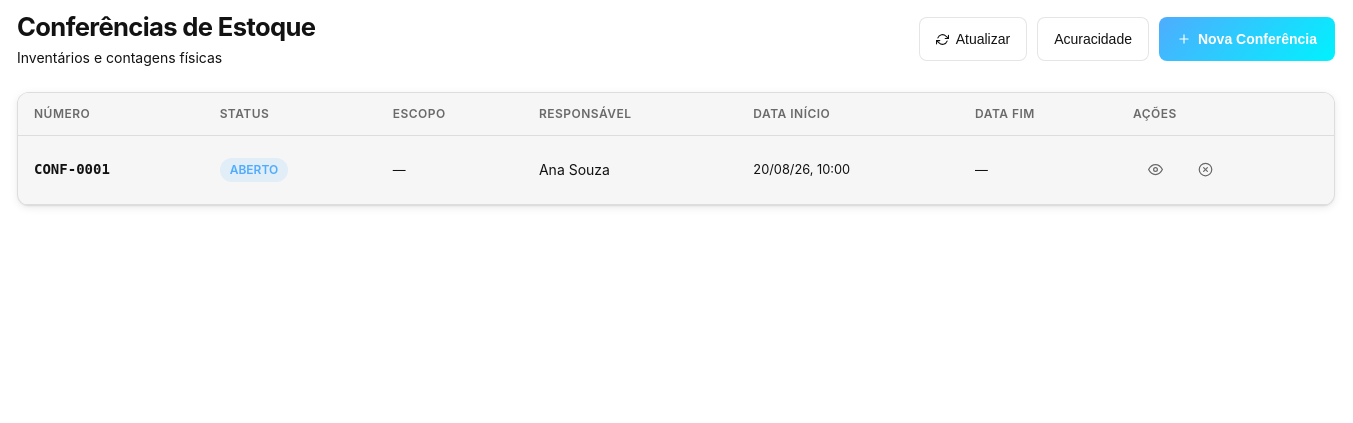
ConferenciaEstoque — badge "Recontagem necessária" vem do servidor › badge aparece quando recontagem_necessaria=true mesmo com divergência local zero, e some quando false mesmo com divergência local grande
This screenshot has width=1353, height=423.
What coordinates should you click on to do the following:
click the button named "Abrir"
I would click on:
 (1155, 170)
Its box is x1=1133 y1=148 x2=1177 y2=192.
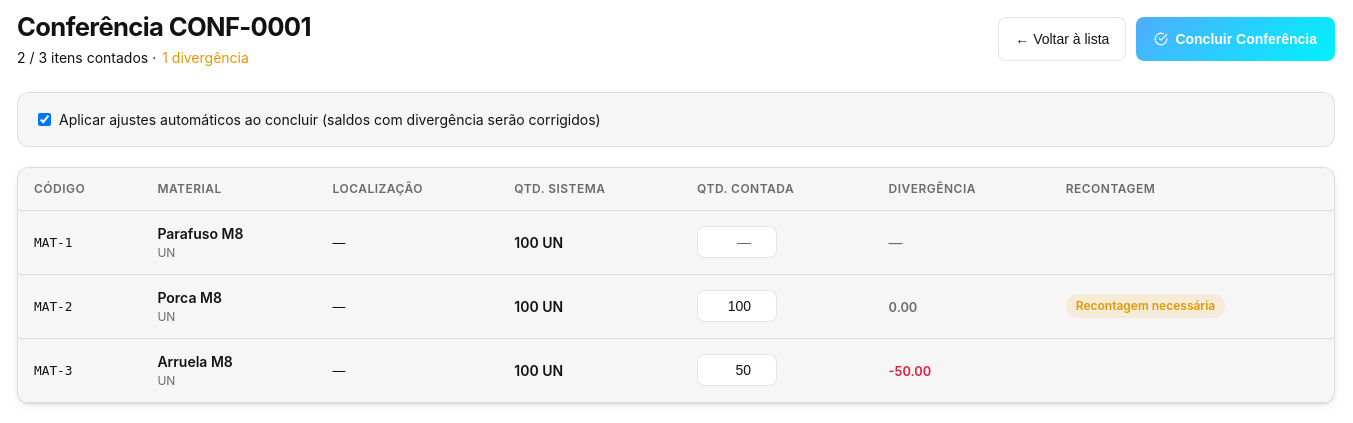
Expected: the text "Recontagem necessária" is not shown
Now the row "MAT-2 Porca M8 UN — 100 UN 0.00 Recontagem necessária" is shown, box x1=18 y1=274 x2=1334 y2=338
